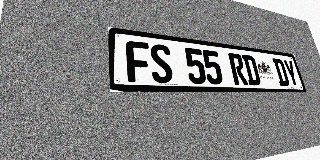5: (184, 47, 207, 84), (202, 50, 224, 85)
D: (241, 54, 262, 86), (272, 58, 290, 86)
F: (125, 40, 152, 83)
R: (228, 53, 249, 85)
S: (149, 43, 174, 83)
Y: (282, 59, 300, 87)
